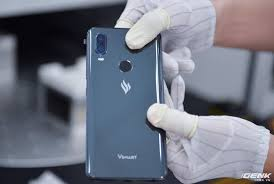bphone: (82, 24, 167, 181)
